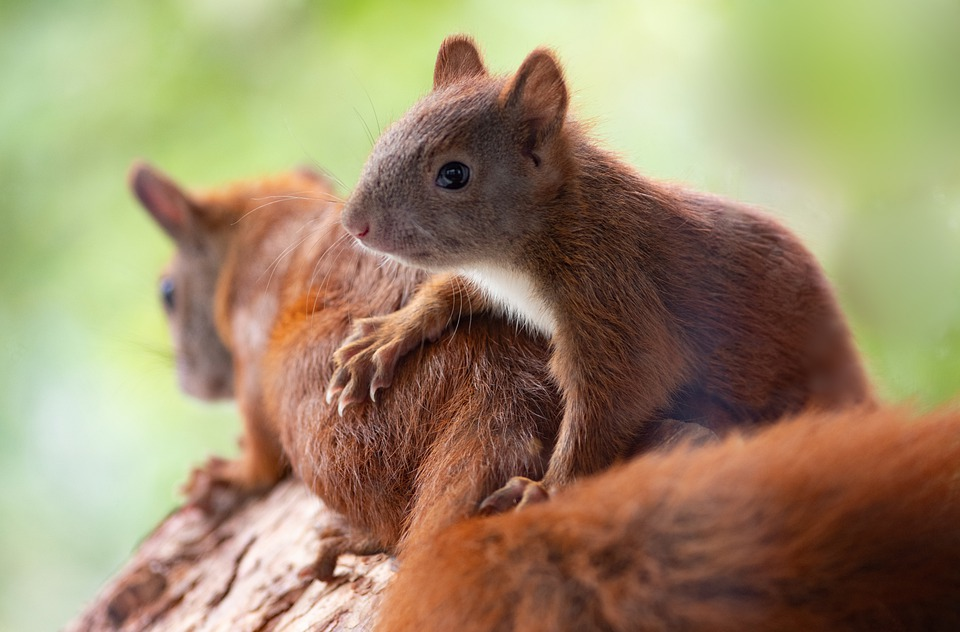squirrel: (345, 21, 873, 513), (116, 156, 557, 556)
